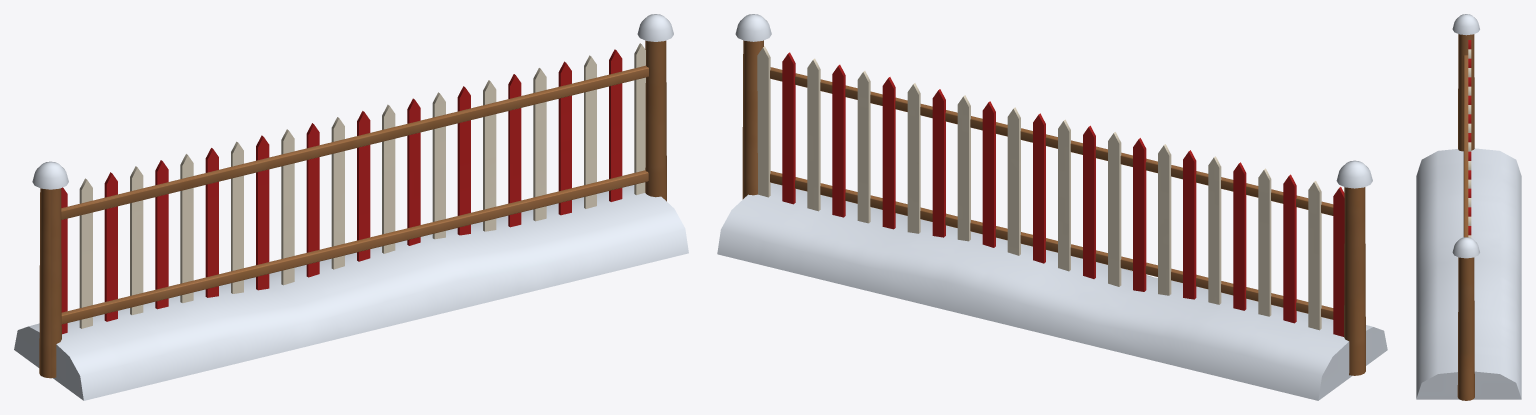
Rendered from SM_Fence.glb.
3 views of the same model, side by side, from view 1: azimuth 30°, elevation 25°; view 2: azimuth 150°, elevation 25°; view 3: azimuth 270°, elevation 25° (orthographic). The views are drawn at different scales.
Parts seen in each view (by area): view 1: SM_Fence; view 2: SM_Fence; view 3: SM_Fence.
Part boxes in pixels (x1=…): SM_Fence: x1=14, y1=14, x2=688, y2=400; SM_Fence: x1=717, y1=14, x2=1387, y2=400; SM_Fence: x1=1416, y1=14, x2=1521, y2=400.
Size of the model in its own units: 4.21 by 1.35 by 0.8.
Materials: 1 (1 with a texture image).
